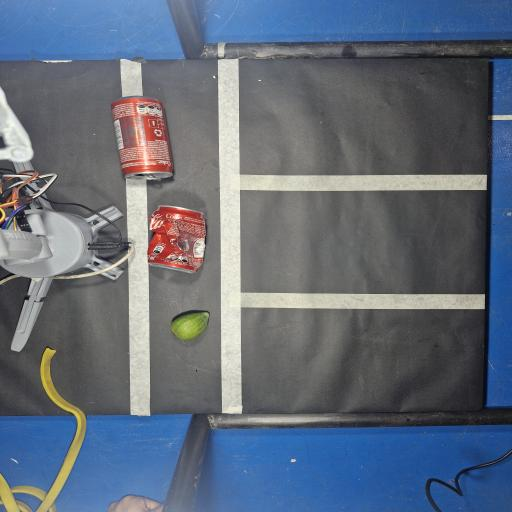higo: (170, 312, 209, 340)
lata: (111, 96, 173, 179)
lata_defectuoso: (147, 206, 205, 272)
